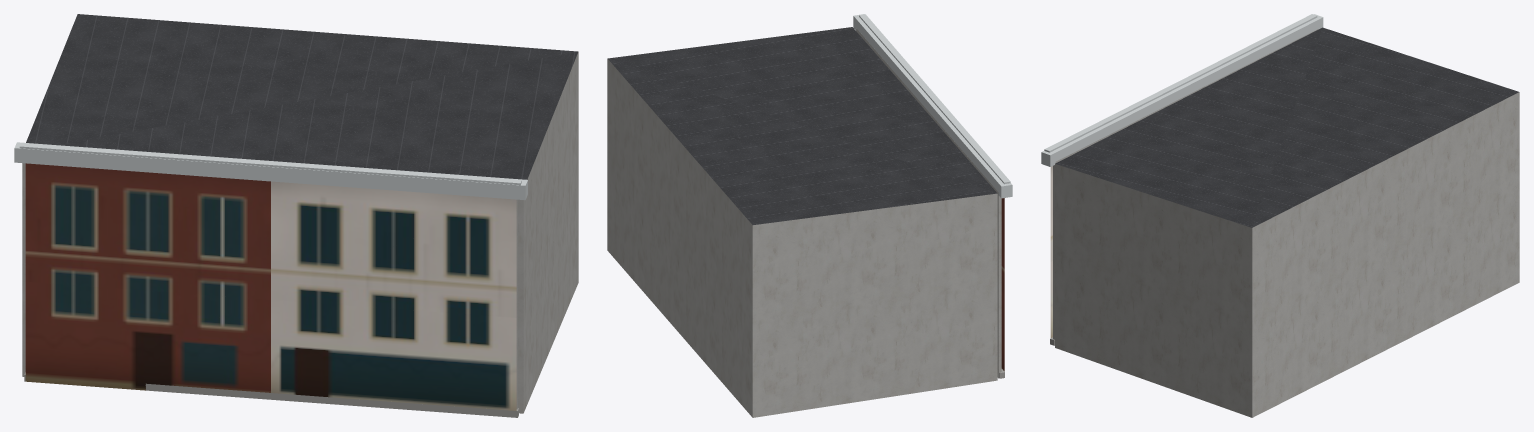
The picture shows the model from 3 angles, left to right: view 1: azimuth 30°, elevation 25°; view 2: azimuth 150°, elevation 25°; view 3: azimuth 270°, elevation 25°; orthographic projection. The views are drawn at different scales.
Parts seen in each view (by area): view 1: bldg_6004321105_facade0, bldg_6004321105_roof, bldg_6004321105; view 2: bldg_6004321105, bldg_6004321105_roof, bldg_6004321105_facade0; view 3: bldg_6004321105, bldg_6004321105_roof, bldg_6004321105_facade0.
Part boxes in pixels (x1=…): bldg_6004321105_facade0: x1=14, y1=142, x2=527, y2=417; bldg_6004321105_roof: x1=26, y1=14, x2=577, y2=179; bldg_6004321105: x1=22, y1=51, x2=578, y2=413; bldg_6004321105: x1=607, y1=59, x2=997, y2=417; bldg_6004321105_roof: x1=607, y1=27, x2=997, y2=224; bldg_6004321105_facade0: x1=853, y1=14, x2=1012, y2=378; bldg_6004321105: x1=1055, y1=89, x2=1519, y2=417; bldg_6004321105_roof: x1=1055, y1=27, x2=1518, y2=227; bldg_6004321105_facade0: x1=1041, y1=14, x2=1323, y2=345.
Size of the model in its own units: 14.51 by 6.25 by 13.91.
5 materials, 3 textured.
